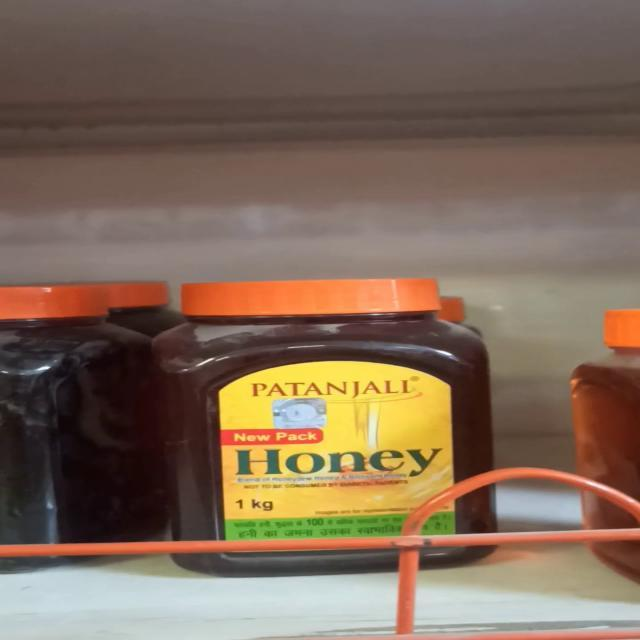Patanjali Honey: (169, 282, 504, 576)
